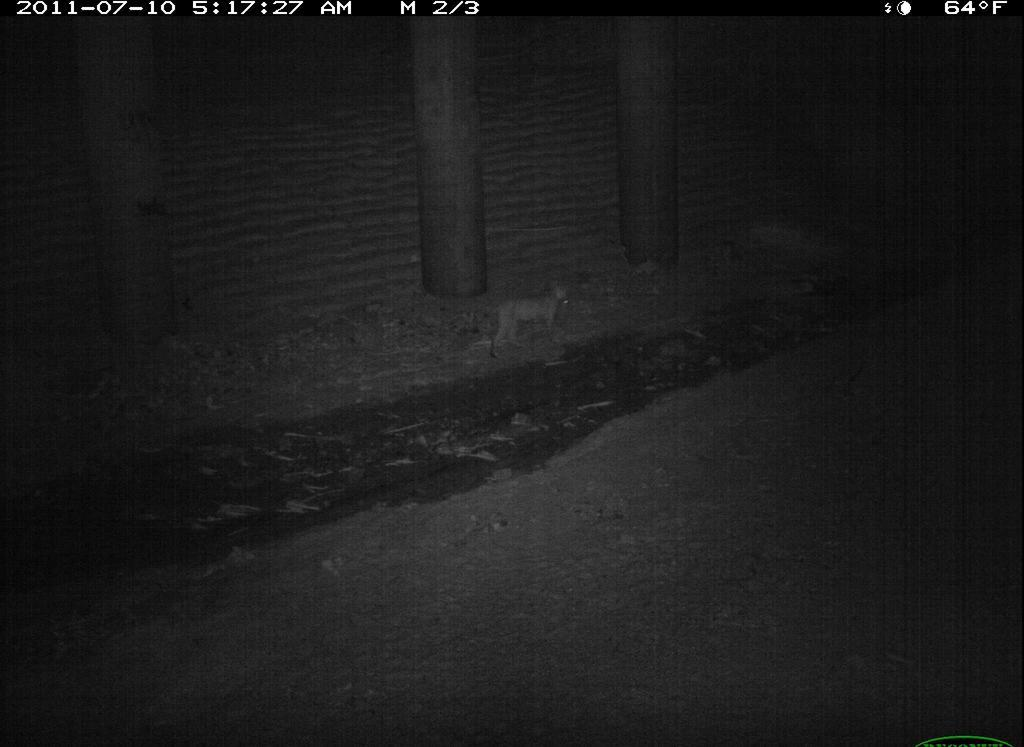bobcat: (962, 550, 1024, 732)
